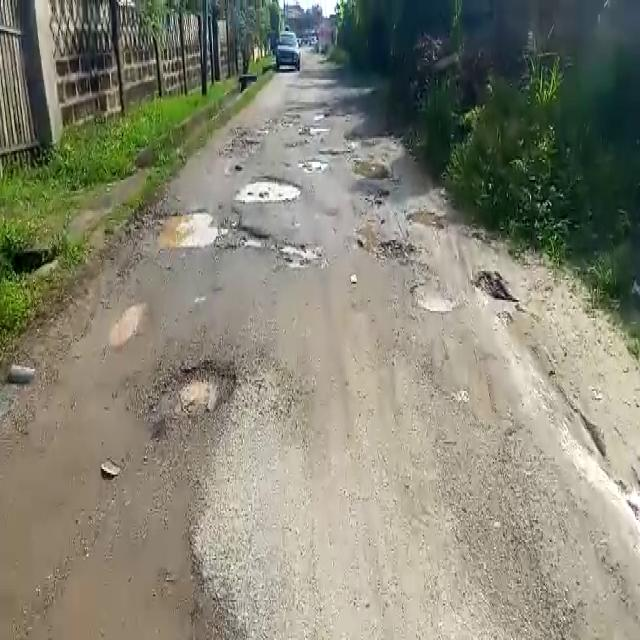Pothole: (150, 210, 270, 252), (156, 357, 240, 415), (234, 173, 302, 201), (277, 240, 328, 275), (410, 278, 456, 313)
